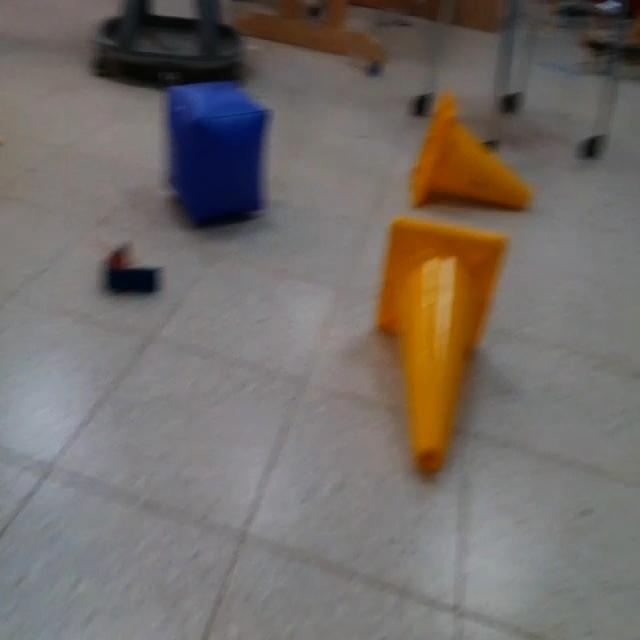cone: (378, 215, 508, 471), (412, 95, 530, 208)
cube: (166, 75, 270, 228)
